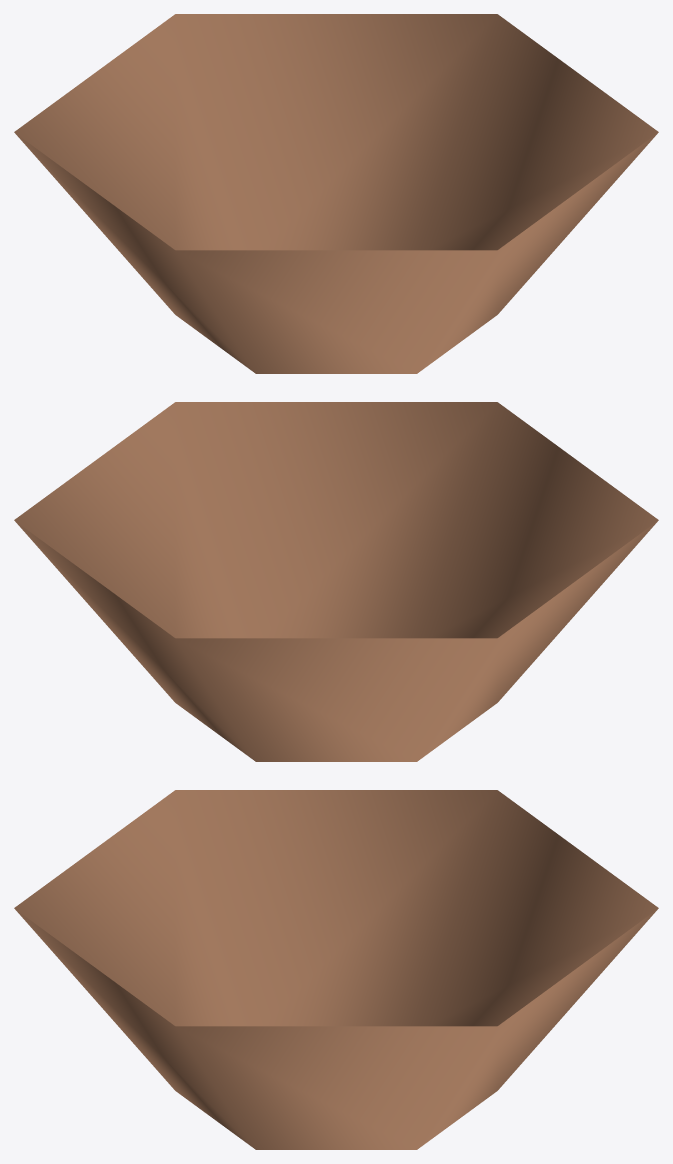
The model's file is agal_lamp.glb.
3 views of the same model, one above another, from view 1: azimuth 30°, elevation 25°; view 2: azimuth 150°, elevation 25°; view 3: azimuth 270°, elevation 25° (orthographic).
Visible parts, largest first — view 1: AgalLamp_Node; view 2: AgalLamp_Node; view 3: AgalLamp_Node.
Part boxes in pixels (<box>): AgalLamp_Node: <box>14,14,658,373</box>; AgalLamp_Node: <box>14,402,658,761</box>; AgalLamp_Node: <box>14,790,658,1149</box>.
Size of the model in its own units: 0.1386 by 0.05 by 0.16.
